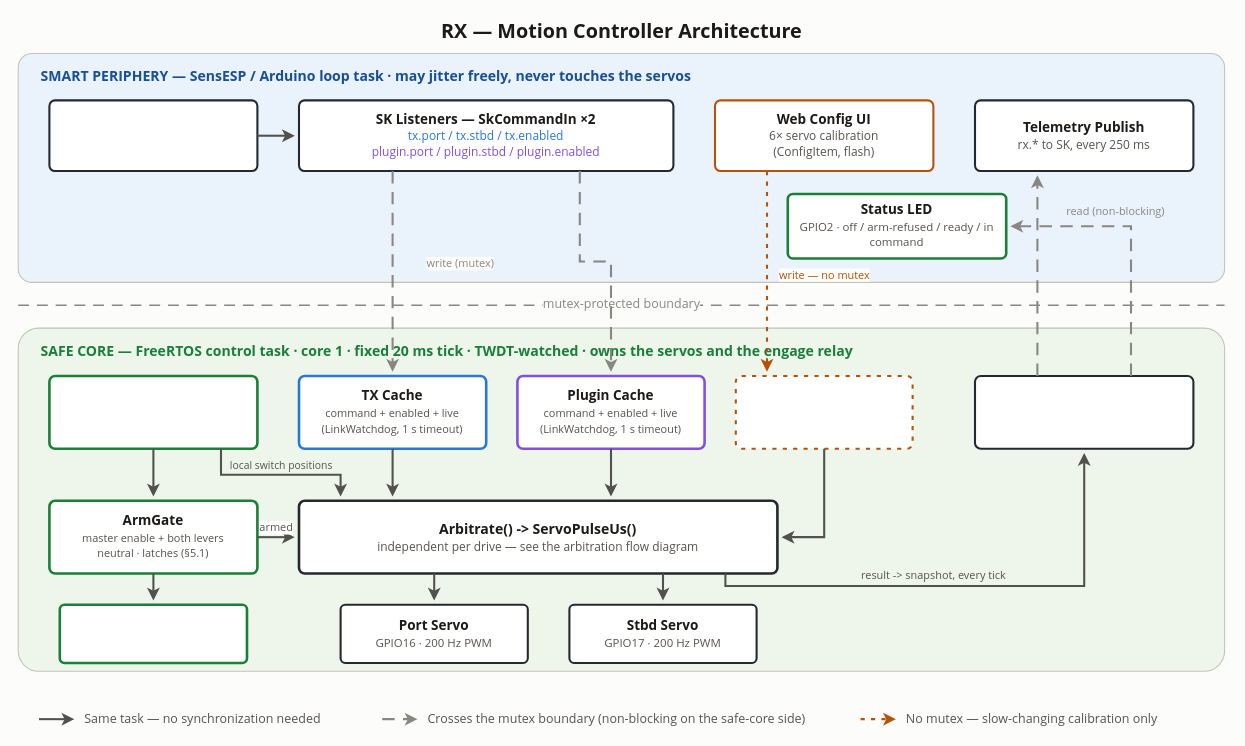
This 1245x746 diagram has some shape labels left out. Each missing label, with the centre of its shape:
Engage Relay GPIO33 opto · = ARMED: (153,633)
Local Switches, Master Enable + Lever NEUTRAL ×2 7× GPIO, debounced 30 ms: (153,412)
Servo Calibration no mutex (see legend): (823,411)
Telemetry Snapshot commands · sources · armed written every tick (mutex): (1083,411)
WiFi + Signal K Client: (153,135)
